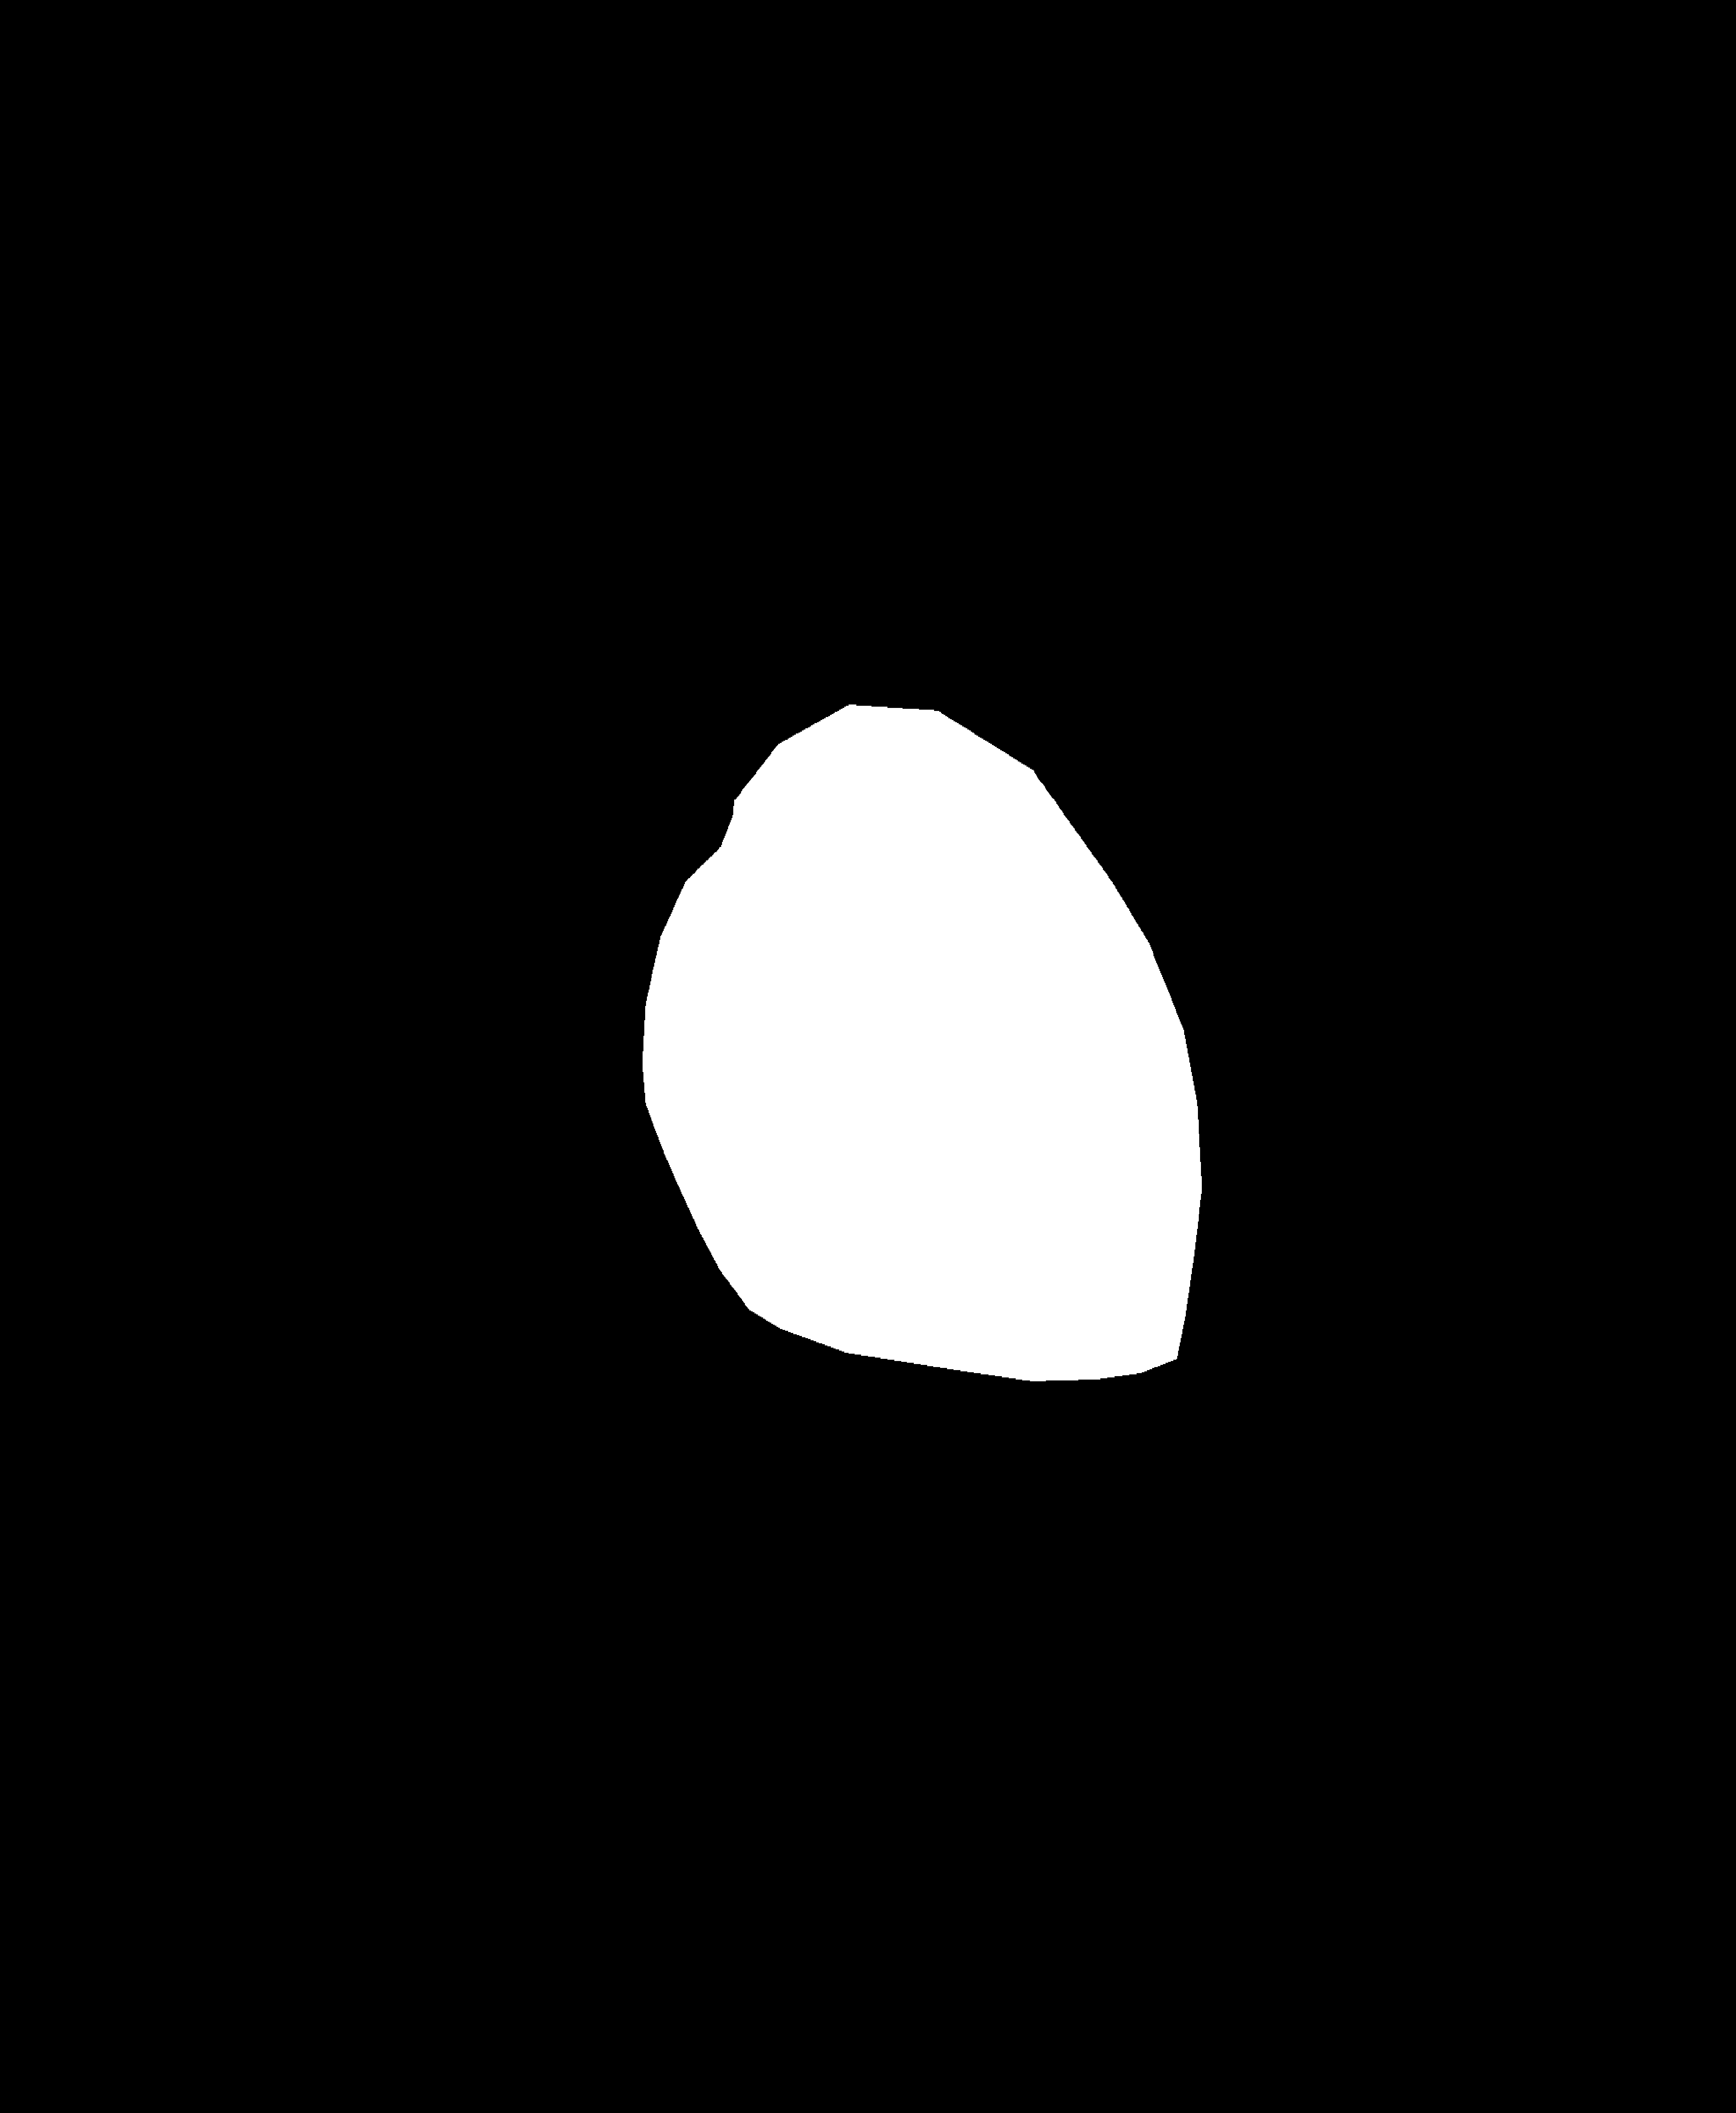heart: (642, 849, 1197, 1339)
left_lung: (228, 188, 811, 1601)
right_lung: (913, 167, 1517, 1544)
